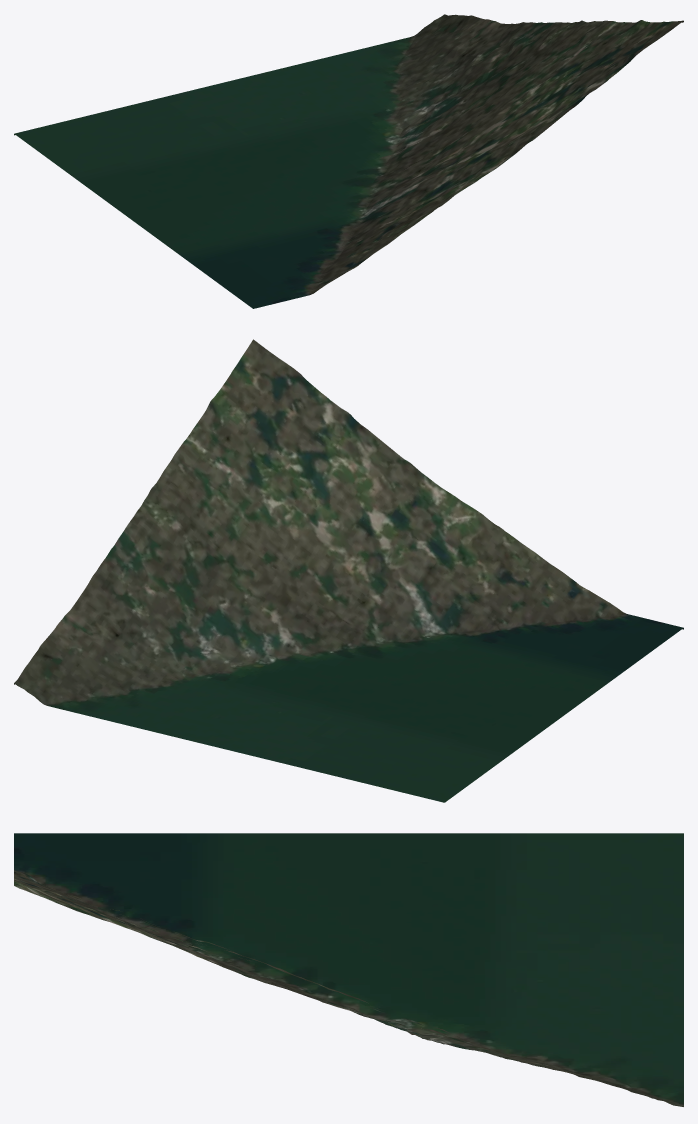
3 renders of one model, top to bottom at view 1: azimuth 30°, elevation 25°; view 2: azimuth 150°, elevation 25°; view 3: azimuth 270°, elevation 25°, orthographic. The views are drawn at different scales.
Bounding box in the file's own units: 250 × 103 × 241.
1 material, 1 textured.
